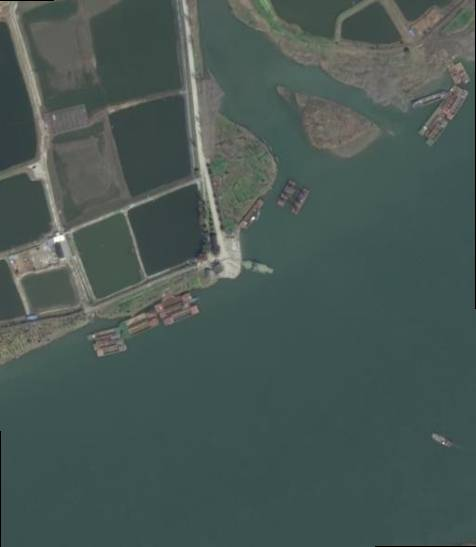ship: (237, 196, 268, 234), (417, 104, 448, 140), (446, 86, 476, 120), (424, 117, 452, 151), (273, 177, 300, 211), (288, 186, 315, 217), (163, 306, 201, 327), (440, 81, 463, 115), (160, 299, 198, 319), (156, 293, 193, 313), (125, 318, 162, 338), (121, 309, 156, 330), (413, 91, 448, 110), (453, 57, 474, 86), (87, 327, 122, 341), (94, 336, 124, 350), (431, 431, 454, 448), (98, 345, 128, 357)
